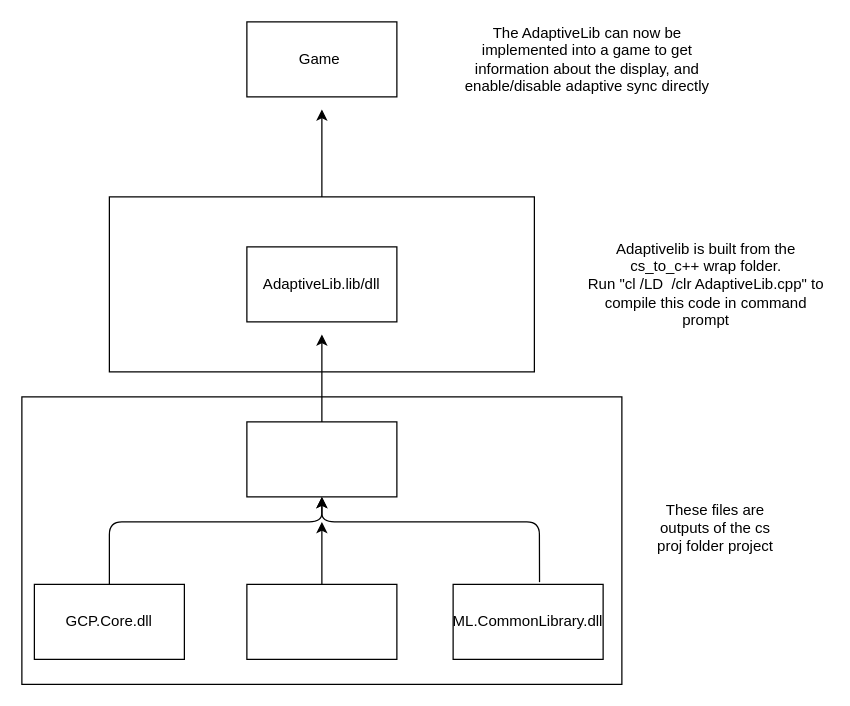
Some shapes in this 850 by 706 pixel diagram are drawn without their labels. Here are the shapes that lost their labels. From the top down, the box of each, then its label:
(246, 421, 397, 497): Adaptivecs.dll
(246, 583, 397, 659): IGCCTray.dll
